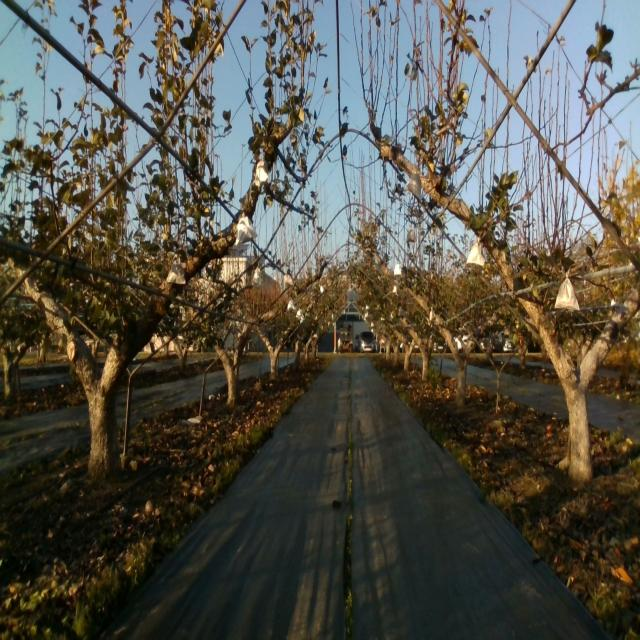pearbags: (554, 268, 580, 312), (234, 212, 257, 245), (166, 253, 187, 285), (466, 235, 486, 268), (254, 156, 270, 192), (405, 170, 423, 202)
